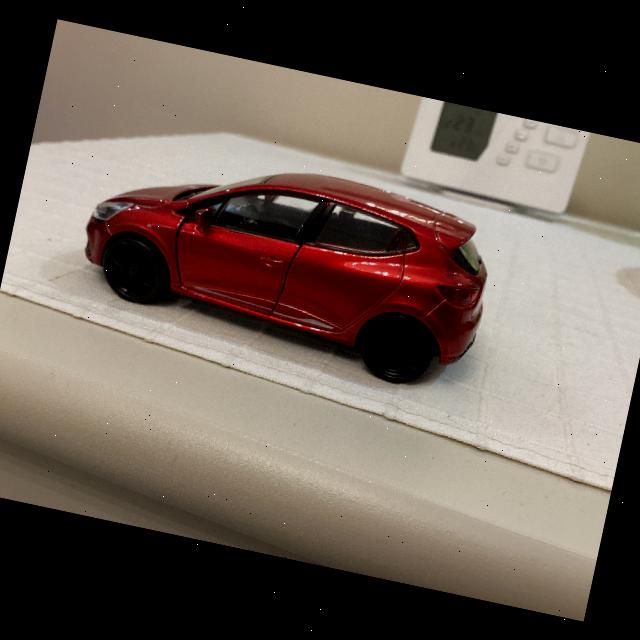Dogru_Jant: (362, 318, 428, 381), (104, 240, 160, 296)
